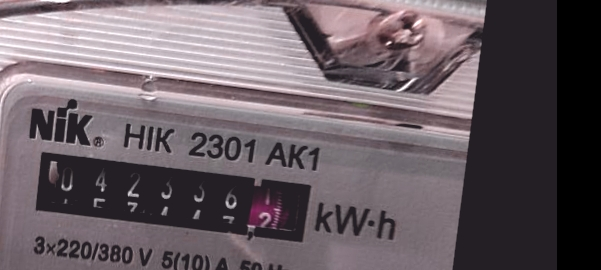0: (57, 164, 76, 194)
1: (260, 184, 274, 207)
2: (125, 169, 144, 199), (255, 209, 273, 229)
3: (188, 174, 208, 206), (157, 172, 175, 201)
4: (91, 163, 112, 194)
6: (222, 180, 242, 212)
screen: (21, 137, 325, 255)
